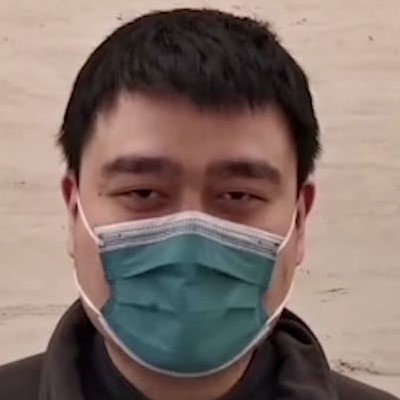mask: (52, 201, 302, 374)
